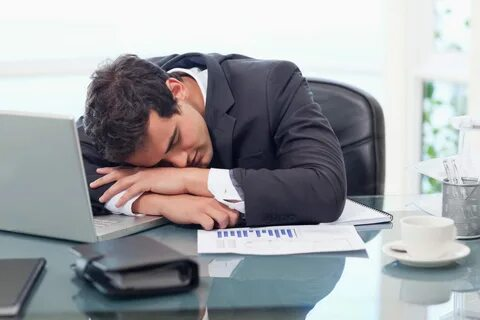sleep: (75, 52, 348, 229)
